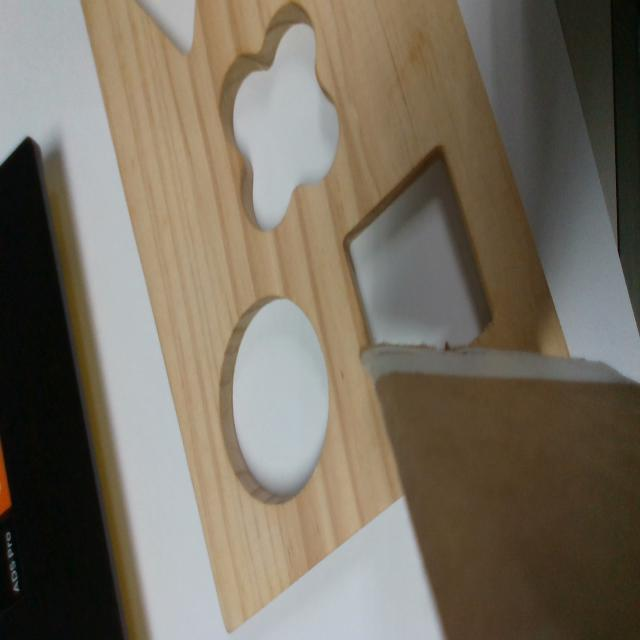circle: (222, 298, 329, 506)
flower: (217, 4, 340, 228)
square: (341, 140, 493, 348)
